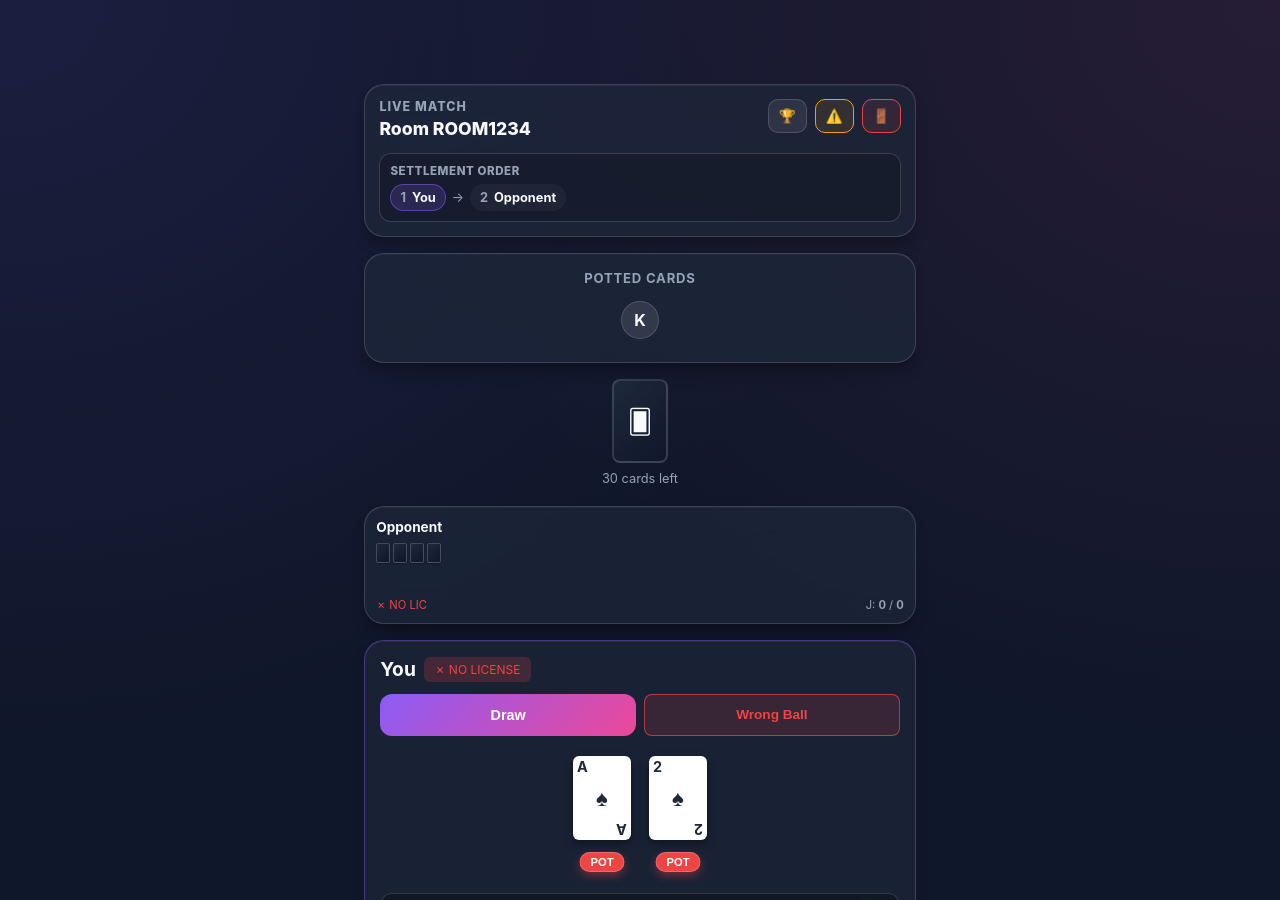
Test case: GameScreen batched visit flow › filters modal rank options by hand and potted ranks
What coordinates should you click on to do the following:
click the button "Wrong Ball"
I would click on:
 (772, 715)
Its box is [644,694,900,736].
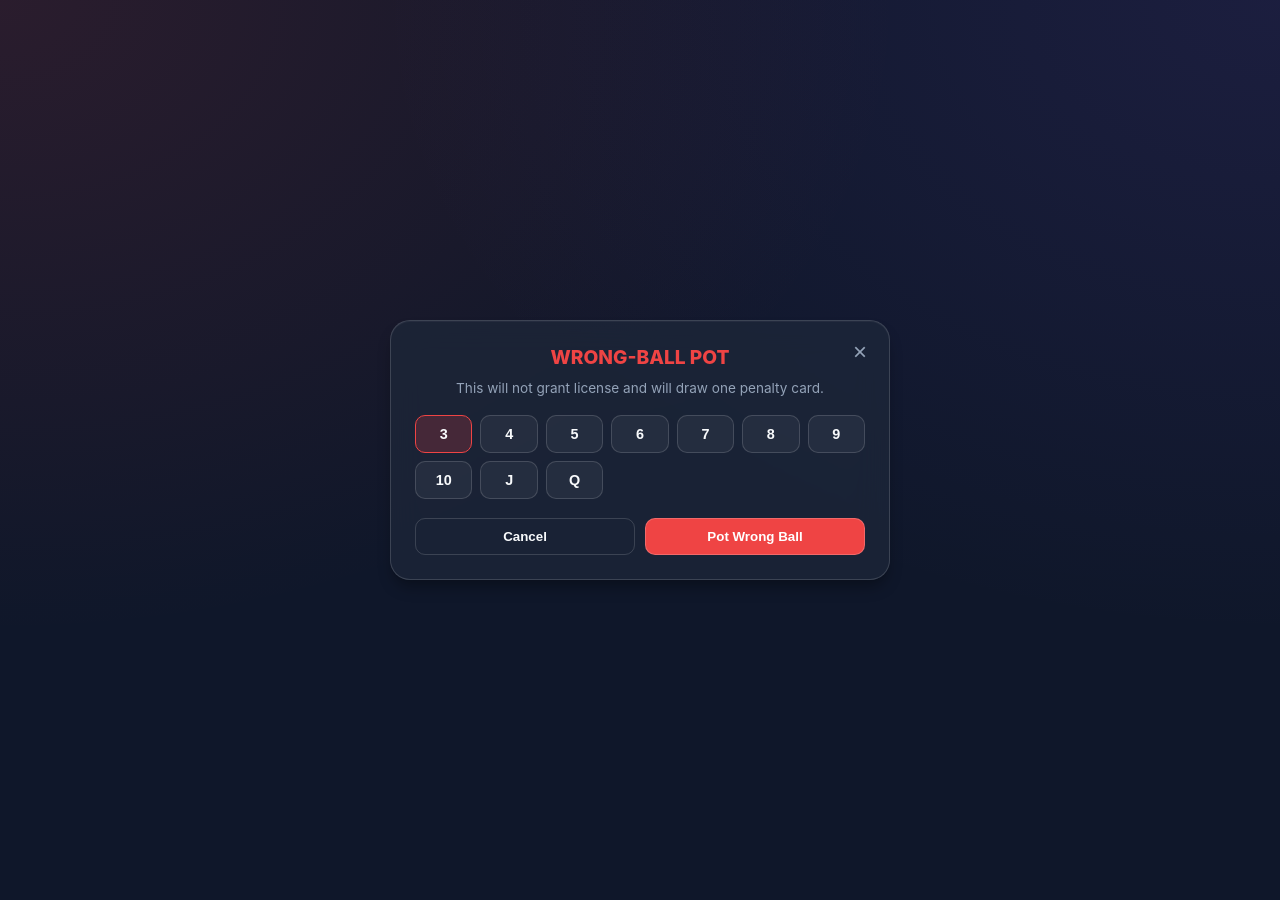
Result: the button "Q" is shown at [546,461,603,499]
